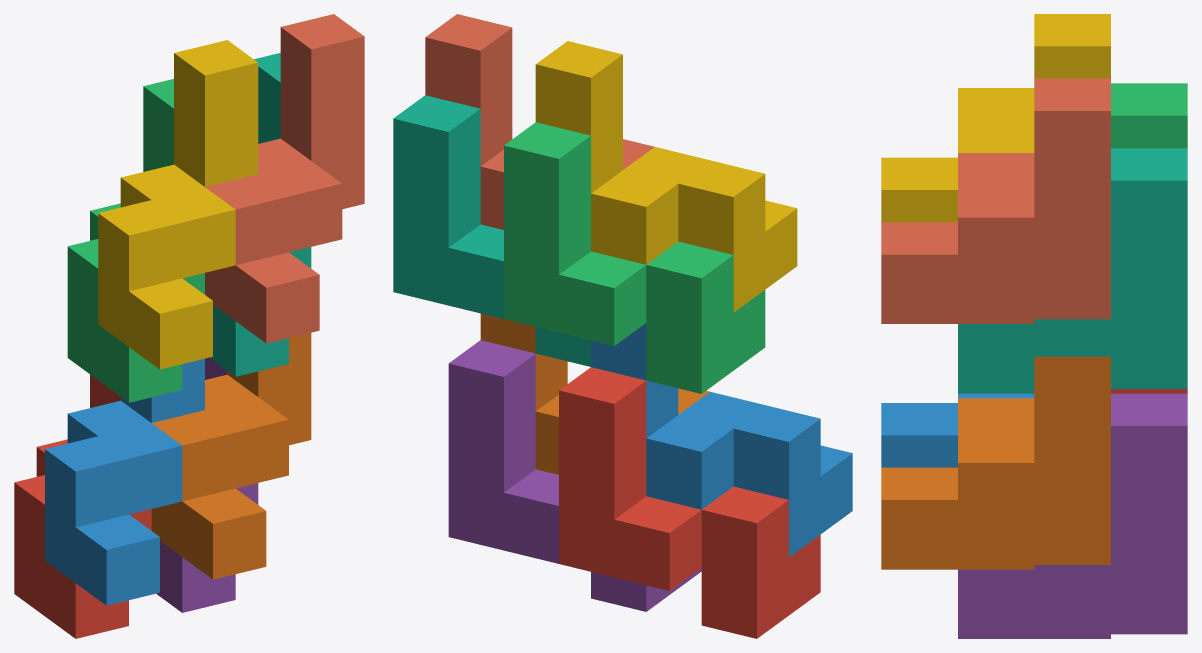
File: tiling.obj
3 renders of one model, left to right at view 1: azimuth 30°, elevation 25°; view 2: azimuth 150°, elevation 25°; view 3: azimuth 270°, elevation 25°, orthographic. The views are drawn at different scales.
Visible parts, largest first — view 1: copy_1_domain_4, copy_1_domain_8, copy_1_domain_2, copy_1_domain_6, copy_1_domain_3, copy_1_domain_1, copy_1_domain_7, copy_1_domain_5; view 2: copy_1_domain_1, copy_1_domain_3, copy_1_domain_4, copy_1_domain_2, copy_1_domain_5, copy_1_domain_7, copy_1_domain_8, copy_1_domain_6; view 3: copy_1_domain_8, copy_1_domain_6, copy_1_domain_5, copy_1_domain_7, copy_1_domain_4, copy_1_domain_2, copy_1_domain_3.
Boxes of the visible parts, bbox=[...] form: copy_1_domain_4: bbox=[98, 40, 258, 369]; copy_1_domain_8: bbox=[205, 14, 364, 343]; copy_1_domain_2: bbox=[45, 358, 204, 605]; copy_1_domain_6: bbox=[151, 333, 311, 579]; copy_1_domain_3: bbox=[67, 79, 204, 402]; copy_1_domain_1: bbox=[14, 374, 151, 638]; copy_1_domain_7: bbox=[209, 53, 311, 376]; copy_1_domain_5: bbox=[156, 357, 258, 612]; copy_1_domain_1: bbox=[559, 367, 820, 638]; copy_1_domain_3: bbox=[504, 122, 765, 393]; copy_1_domain_4: bbox=[535, 41, 797, 312]; copy_1_domain_2: bbox=[591, 323, 852, 557]; copy_1_domain_5: bbox=[448, 340, 701, 611]; copy_1_domain_7: bbox=[393, 95, 590, 366]; copy_1_domain_8: bbox=[425, 14, 654, 229]; copy_1_domain_6: bbox=[480, 313, 709, 474]; copy_1_domain_8: bbox=[881, 78, 1110, 323]; copy_1_domain_6: bbox=[881, 356, 1110, 569]; copy_1_domain_5: bbox=[958, 393, 1187, 638]; copy_1_domain_7: bbox=[958, 148, 1187, 393]; copy_1_domain_4: bbox=[881, 14, 1110, 222]; copy_1_domain_2: bbox=[881, 393, 1034, 467]; copy_1_domain_3: bbox=[1111, 83, 1187, 148].
Bounding box in the file's own units: 6 × 9 × 4.
